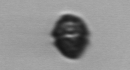plankton: (48, 11, 94, 62)
